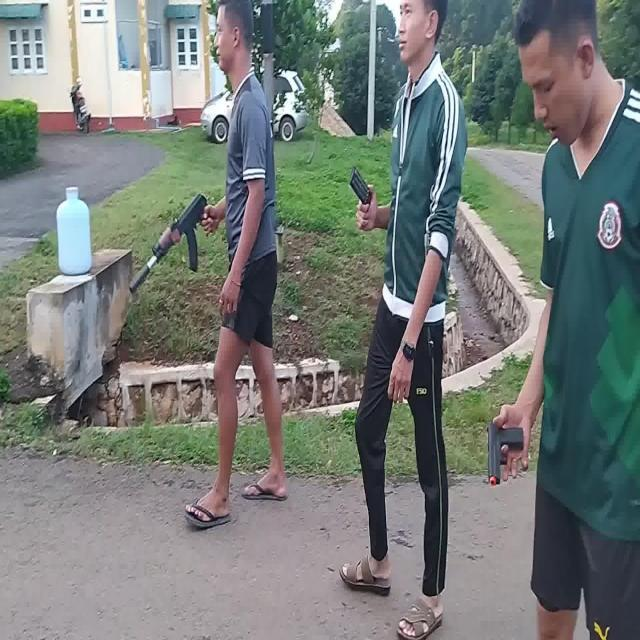gun: (129, 195, 219, 295), (488, 426, 524, 482)
